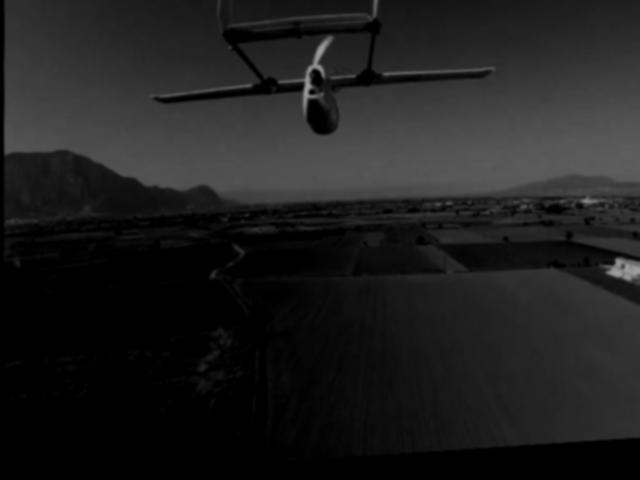hedef: (138, 0, 500, 159)
